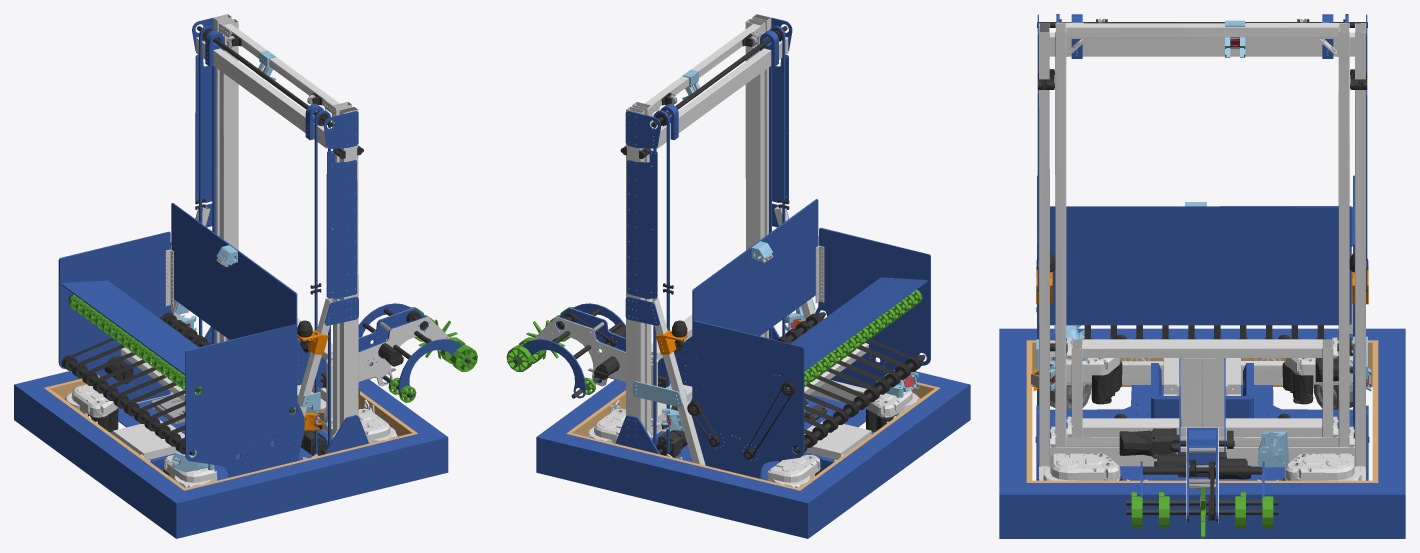
Rendered from charles.glb.
The picture shows the model from 3 angles, left to right: view 1: azimuth 30°, elevation 25°; view 2: azimuth 150°, elevation 25°; view 3: azimuth 270°, elevation 25°; orthographic projection. The views are drawn at different scales.
Parts seen in each view (by area): view 1: glass|3e61b2, bumper|3e61b2, base|3e61b2, base|e9e9e9, stage|e9e9e9, base|3a3a3a, base|e5e5e5, base|363636, arm|3e61b2, base|e9b87c, arm|e9e9e9, base|5aae35 (+6 smaller); view 2: glass|3e61b2, bumper|3e61b2, base|3e61b2, base|e9e9e9, stage|e9e9e9, base|e5e5e5, base|3a3a3a, base|363636, arm|3e61b2, base|e9b87c, base|9cceec, base|5aae35 (+5 smaller); view 3: glass|3e61b2, bumper|3e61b2, base|e9e9e9, stage|e9e9e9, carriage|e9e9e9, base|3e61b2, base|e5e5e5, base|3a3a3a, base|e9b87c, arm|3a3a3a, base|9cceec, arm|5aae35 (+7 smaller).
Part boxes in pixels (x1,y1,x2,y2): glass|3e61b2: [58, 203, 358, 477]; bumper|3e61b2: [14, 371, 448, 538]; base|3e61b2: [110, 18, 368, 480]; base|e9e9e9: [118, 14, 358, 439]; stage|e9e9e9: [219, 18, 351, 436]; base|3a3a3a: [61, 26, 364, 475]; base|e5e5e5: [64, 249, 397, 488]; base|363636: [62, 313, 211, 451]; arm|3e61b2: [358, 303, 462, 397]; base|e9b87c: [44, 374, 417, 490]; arm|e9e9e9: [358, 308, 449, 386]; base|5aae35: [69, 294, 202, 394]; glass|3e61b2: [625, 199, 930, 478]; bumper|3e61b2: [536, 362, 970, 538]; base|3e61b2: [615, 17, 874, 480]; base|e9e9e9: [626, 14, 868, 465]; stage|e9e9e9: [632, 19, 764, 436]; base|e5e5e5: [586, 245, 920, 488]; base|3a3a3a: [619, 26, 924, 475]; base|363636: [691, 314, 920, 457]; arm|3e61b2: [522, 303, 625, 398]; base|e9b87c: [566, 382, 939, 490]; base|9cceec: [632, 241, 919, 431]; base|5aae35: [804, 289, 922, 386]; glass|3e61b2: [1037, 175, 1367, 436]; bumper|3e61b2: [999, 328, 1405, 538]; base|e9e9e9: [1039, 23, 1365, 467]; stage|e9e9e9: [1055, 23, 1349, 446]; carriage|e9e9e9: [1071, 339, 1333, 437]; base|3e61b2: [1036, 14, 1368, 480]; base|e5e5e5: [1039, 271, 1365, 480]; base|3a3a3a: [1035, 19, 1369, 480]; base|e9b87c: [1026, 340, 1378, 482]; arm|3a3a3a: [1142, 440, 1262, 520]; base|9cceec: [1036, 202, 1371, 467]; arm|5aae35: [1131, 486, 1273, 537].
Bounding box in the file's own units: 1.22 × 1.21 × 0.9462.
